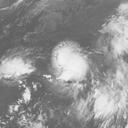cyclone: (50, 40, 90, 82)
